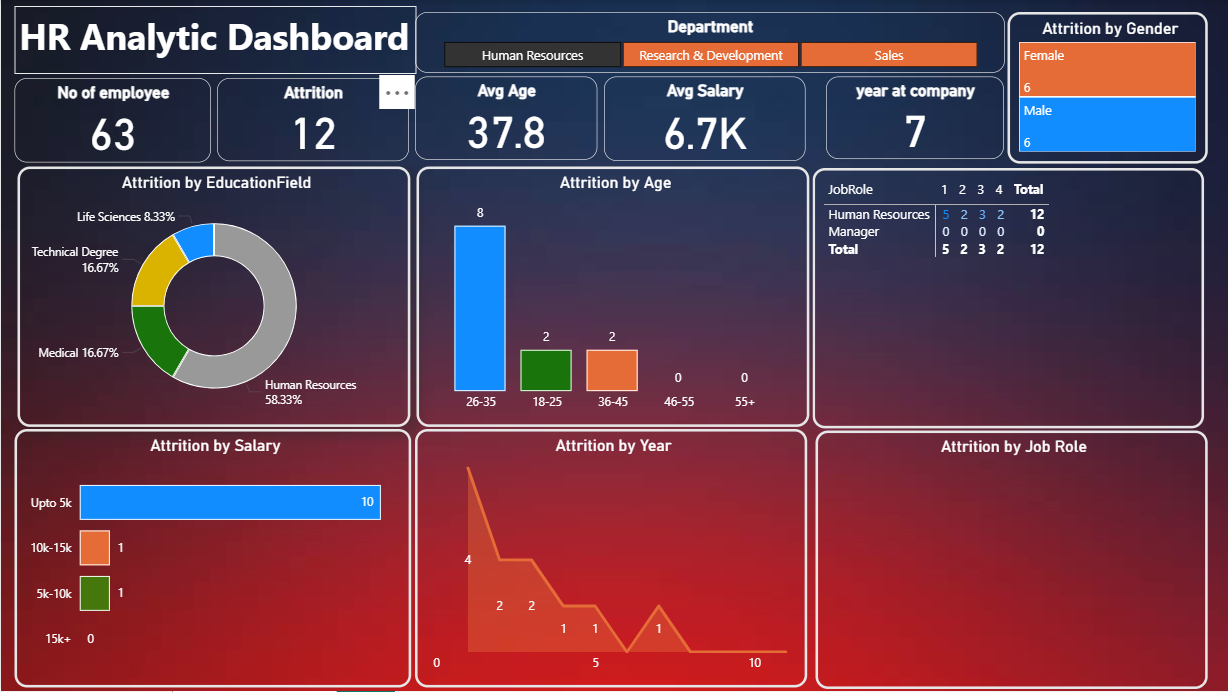

Layout of this report page (visuals, bound fields, positions):
{"tool":"powerbi","page":{"name":"HR Analytics","canvas":[1280,720],"ordinal":0},"visuals":[{"type":"card","title":"No of employee","fields":{"Values":["CountNonNull(HR_Analytics.EmpID)"]},"box":[13.7,80.7,204.8,88.1],"z":0},{"type":"card","title":"Attrition","fields":{"Values":["Sum(HR_Analytics.Attrition_Count)"]},"box":[224.7,80.7,199.9,86.9],"z":1000},{"type":"card","title":"Avg Age","fields":{"Values":["Avg(HR_Analytics.Age)"]},"box":[432,79.5,190,86.9],"z":2000},{"type":"card","title":"Avg Salary","fields":{"Values":["Avg(HR_Analytics.MonthlyIncome)"]},"box":[628.2,79.5,209.8,88.1],"z":3000},{"type":"card","title":"year at company","fields":{"Values":["Avg(HR_Analytics.YearsAtCompany)"]},"box":[859.9,79.8,185.2,85.8],"z":4000},{"type":"donutChart","title":"Attrition by EducationField","fields":{"Category":["HR_Analytics.EducationField"],"Y":["Sum(HR_Analytics.Attrition_Count)"]},"box":[16.6,173.2,409.6,271.1],"z":5000},{"type":"columnChart","title":"Attrition by Age","fields":{"Category":["HR_Analytics.AgeGroup"],"Y":["Sum(HR_Analytics.Attrition_Count)"]},"box":[433.7,173.2,409.6,271.1],"z":6000},{"type":"pivotTable","title":"Attrition by EducationField","fields":{"Rows":["HR_Analytics.JobRole"],"Columns":["HR_Analytics.JobSatisfaction"],"Values":["Sum(HR_Analytics.Attrition_Count)"]},"box":[846.3,174.7,408.1,271.1],"z":7000},{"type":"clusteredBarChart","title":"Attrition by Salary","fields":{"Category":["HR_Analytics.SalarySlab"],"Y":["Sum(HR_Analytics.Attrition_Count)"]},"box":[13.7,446.9,413.4,269.4],"z":8000},{"type":"clusteredBarChart","title":"Attrition by Job Role","fields":{"Category":["HR_Analytics.JobRole"],"Y":["Sum(HR_Analytics.Attrition_Count)"]},"box":[848,448.2,408.5,269.4],"z":9000},{"type":"stackedAreaChart","title":"Attrition by Year","fields":{"Category":["HR_Analytics.YearsAtCompany"],"Y":["Sum(HR_Analytics.Attrition_Count)"]},"box":[432,446.9,408.5,269.4],"z":10000},{"type":"treemap","title":"Attrition by Gender","fields":{"Group":["HR_Analytics.Gender"],"Values":["Sum(HR_Analytics.Attrition_Count)"]},"box":[1049.1,12.4,208.6,157.7],"z":11000},{"type":"slicer","title":"Department","fields":{"Values":["HR_Analytics.Department"]},"box":[432,12.4,614.5,63.3],"z":12000},{"type":"textbox","box":[13.7,6.2,419.6,70.8],"z":13000}]}

Visuals, with their boxes in screenshot pixels (x1, y1, x2, y2), scaled from the page's 1280x720 canvas onto the 1228x692 screenshot:
"No of employee" card: (13, 78, 210, 162)
"Attrition" card: (216, 78, 407, 161)
"Avg Age" card: (414, 76, 597, 160)
"Avg Salary" card: (603, 76, 804, 161)
"year at company" card: (825, 77, 1003, 159)
"Attrition by EducationField" donutChart: (16, 166, 409, 427)
"Attrition by Age" columnChart: (416, 166, 809, 427)
"Attrition by EducationField" pivotTable: (812, 168, 1203, 428)
"Attrition by Salary" clusteredBarChart: (13, 430, 410, 688)
"Attrition by Job Role" clusteredBarChart: (814, 431, 1205, 690)
"Attrition by Year" stackedAreaChart: (414, 430, 806, 688)
"Attrition by Gender" treemap: (1006, 12, 1207, 163)
"Department" slicer: (414, 12, 1004, 73)
textbox: (13, 6, 416, 74)
